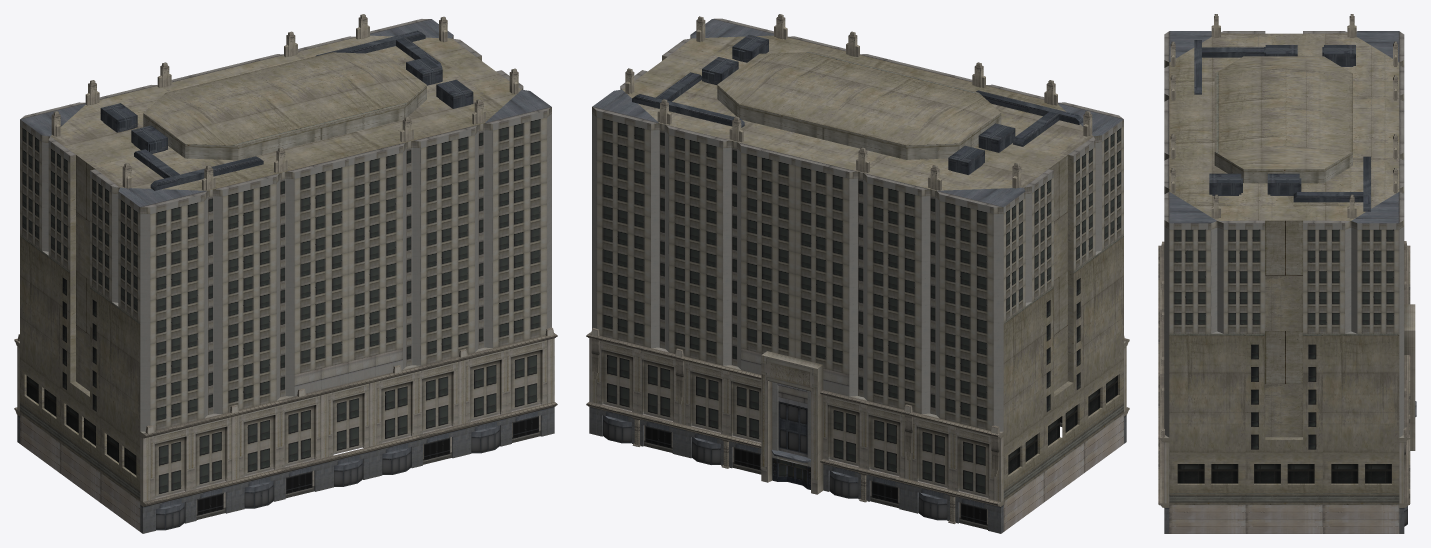
Rendered from Downtown_ClassicOffice_1.fbx.
The picture shows the model from 3 angles, left to right: view 1: azimuth 30°, elevation 25°; view 2: azimuth 150°, elevation 25°; view 3: azimuth 270°, elevation 25°; orthographic projection. The views are drawn at different scales.
Visible parts, largest first — view 1: Downtown_ClassicOffice_1; view 2: Downtown_ClassicOffice_1; view 3: Downtown_ClassicOffice_1.
Part boxes in pixels (x1=…): Downtown_ClassicOffice_1: x1=14, y1=14, x2=557, y2=533; Downtown_ClassicOffice_1: x1=586, y1=14, x2=1129, y2=533; Downtown_ClassicOffice_1: x1=1158, y1=14, x2=1416, y2=533.
Bounding box in the file's own units: 9313 × 7522 × 5291.
3 materials, 3 textured.
